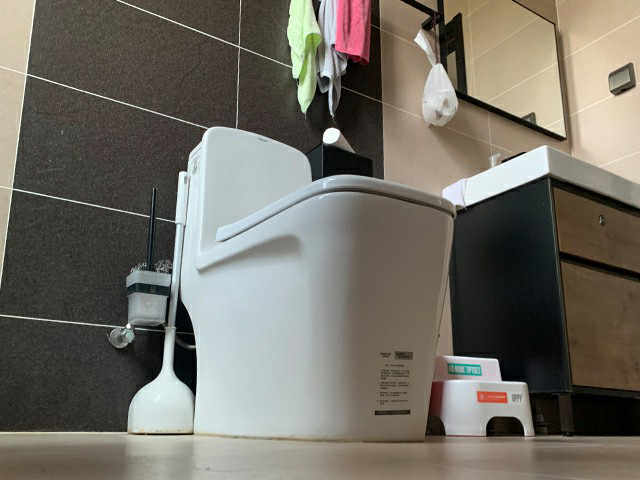cabinet: (458, 140, 640, 437)
closestool: (178, 125, 458, 443)
